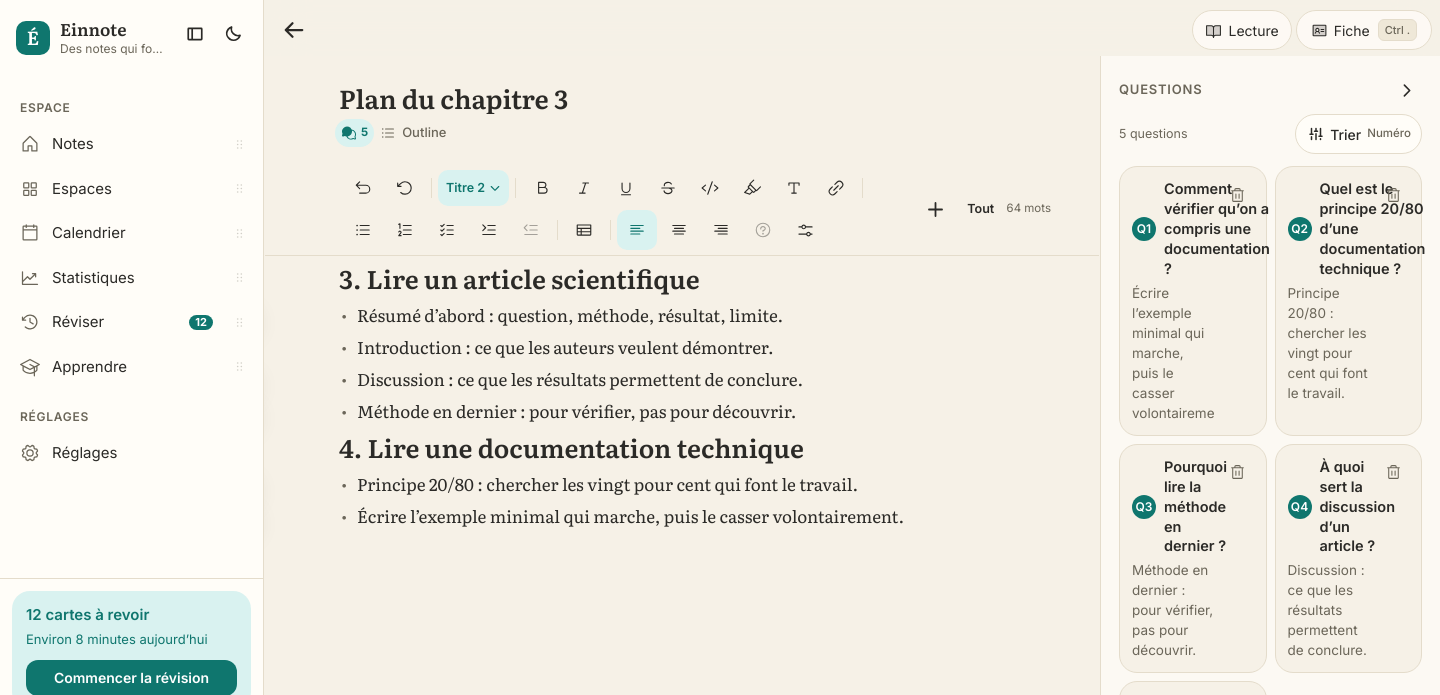
Test: Palette de commandes › explique une commande inapplicable au lieu de la cacher
Click the text box named "Contenu de la note": (622, 394) [339,259,904,528]
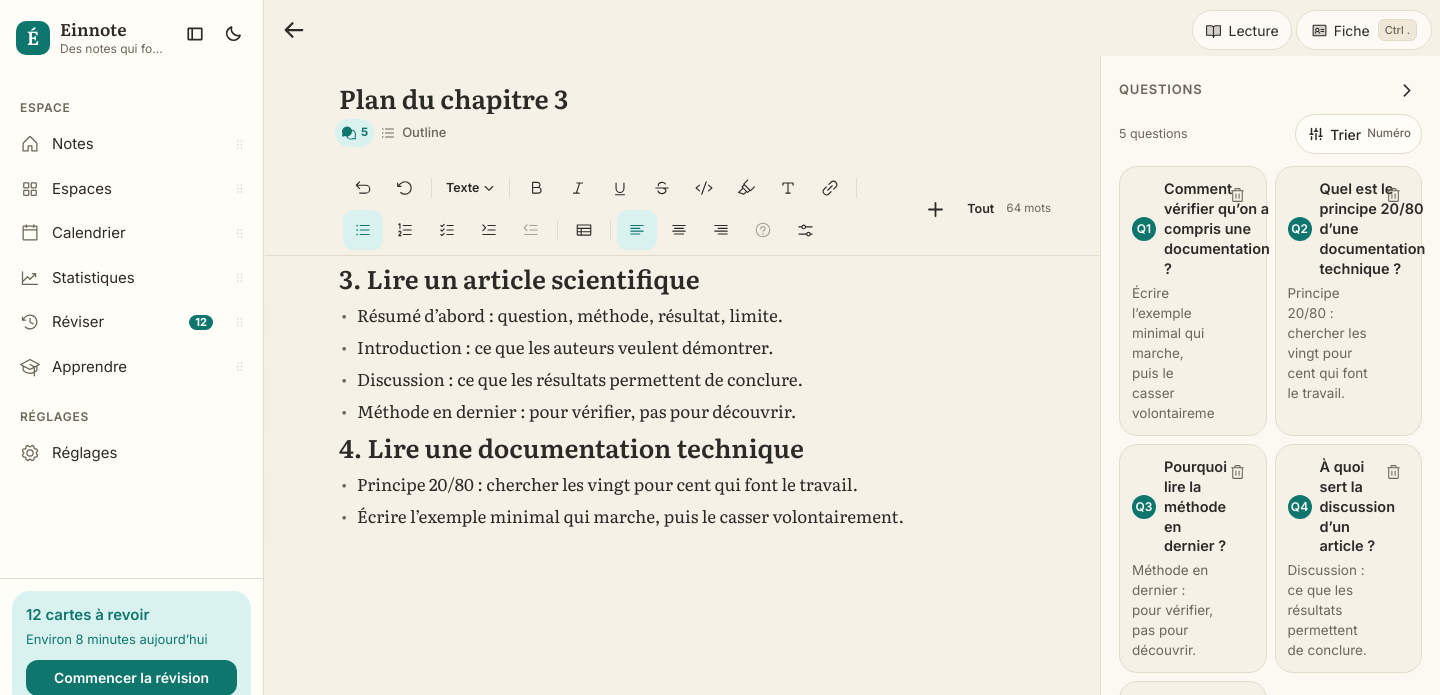
Type keys "{Control>}k{/Control}"
(page scrolled)
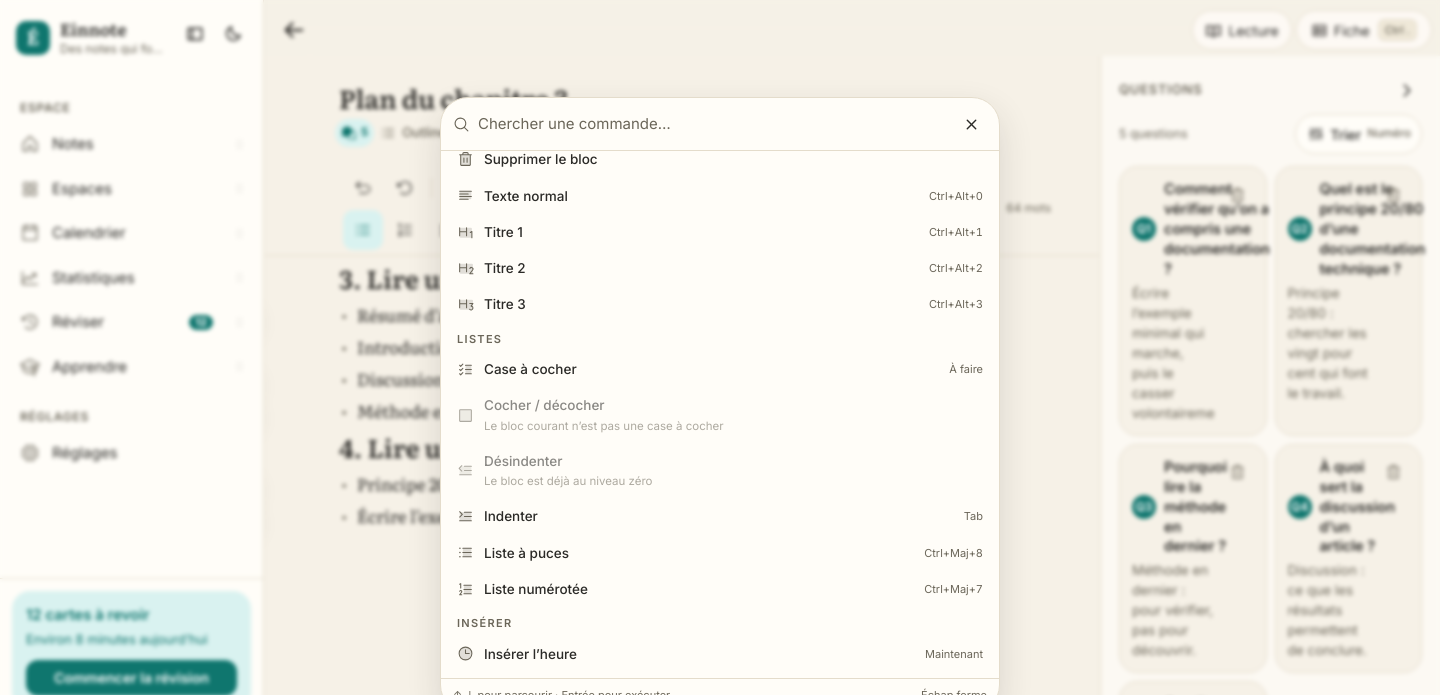
Expected: the option "Cocher" shows "case à cocher", [447,388,993,443]
